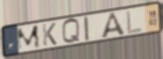A: (100, 10, 128, 40)
I: (83, 15, 91, 43)
K: (41, 22, 58, 48)
L: (126, 9, 144, 36)
M: (16, 24, 42, 53)
Q: (61, 17, 82, 45)
